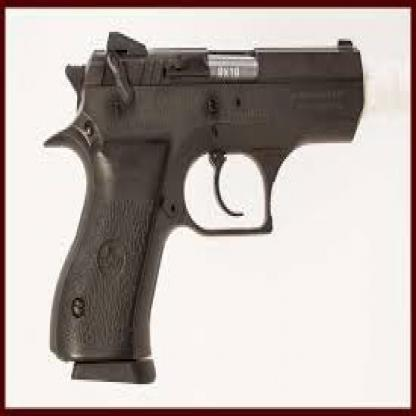Pistol: (40, 27, 365, 382)
